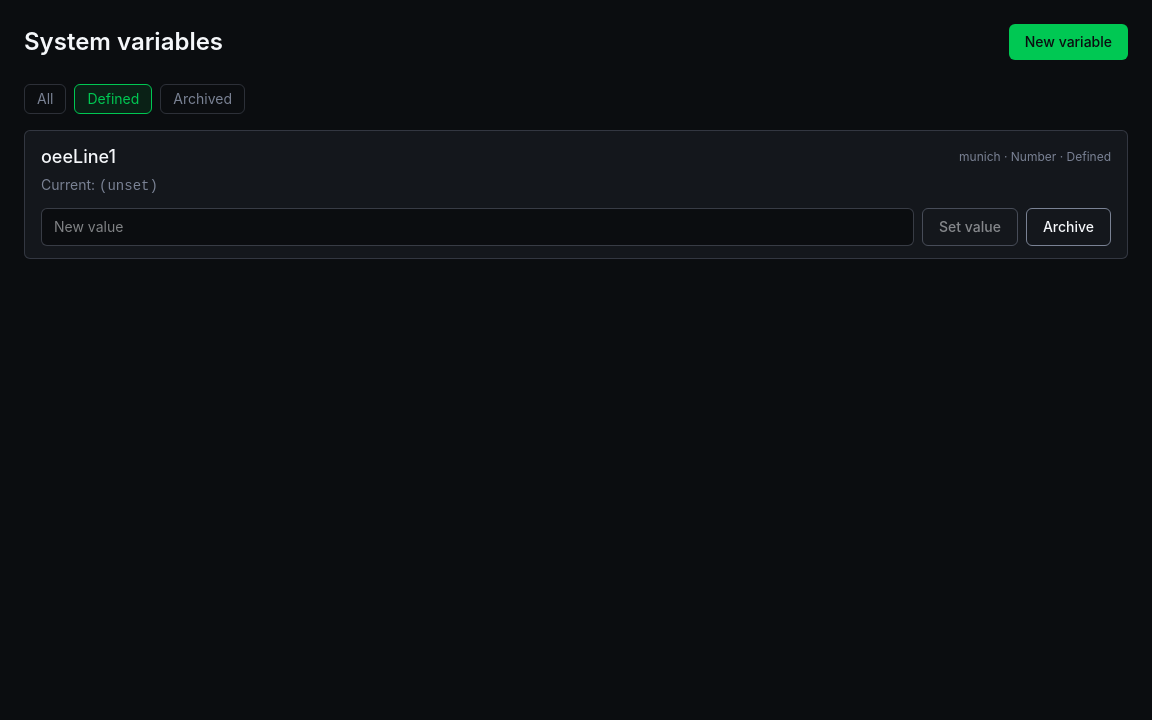
Test: SystemVariablesPage — archive confirmation › Names the variable and says its value is cleared and can never be replaced
Click the button "Archive". click: (1068, 227)
box: [1026,208,1111,246]
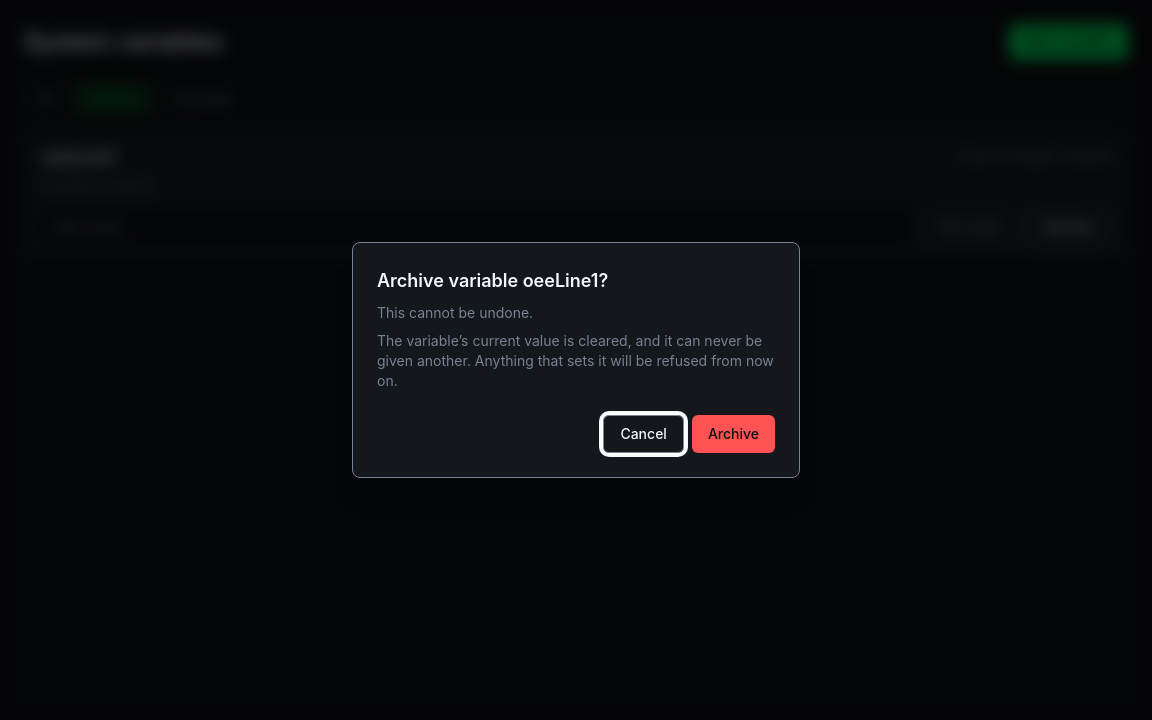
Result: the dialog shows "oeeLine1" at [377,270,608,291]
Result: the dialog shows "cleared" at [377,332,774,389]
Result: the dialog shows "never be given another" at [377,332,774,389]
